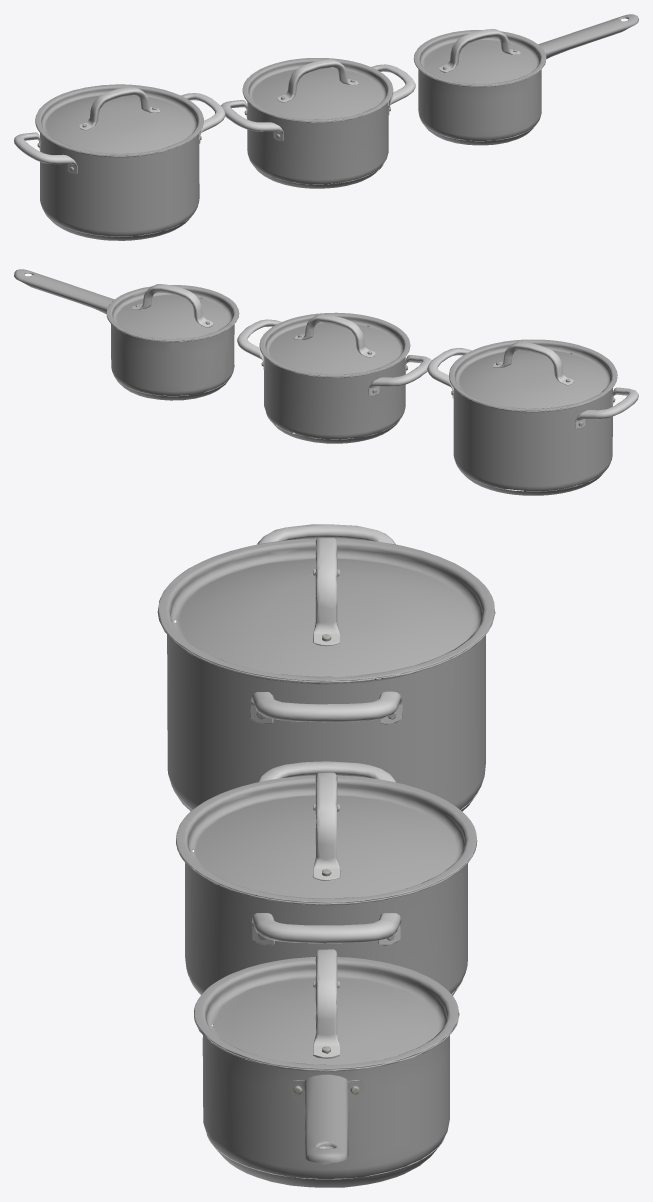
Rendered from ikea_365_zestaw_do_gotowania_6_szt_80484329.glb.
3 renders of one model, top to bottom at view 1: azimuth 30°, elevation 25°; view 2: azimuth 150°, elevation 25°; view 3: azimuth 270°, elevation 25°, orthographic. The views are drawn at different scales.
Parts seen in each view (by area): view 1: ikea_365_zestaw_do_gotowania_6_szt_80484329; view 2: ikea_365_zestaw_do_gotowania_6_szt_80484329; view 3: ikea_365_zestaw_do_gotowania_6_szt_80484329.
Boxes of the visible parts, x1,y1,x2,y2 form: ikea_365_zestaw_do_gotowania_6_szt_80484329: [14, 14, 638, 240]; ikea_365_zestaw_do_gotowania_6_szt_80484329: [14, 269, 638, 495]; ikea_365_zestaw_do_gotowania_6_szt_80484329: [157, 524, 495, 1187].
Bounding box in the file's own units: 0.9862 × 0.184 × 0.2344.
3 materials, 3 textured.
